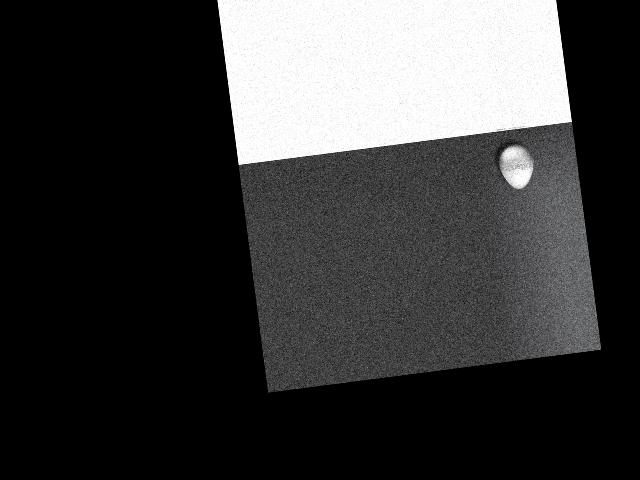egg: (496, 142, 536, 191)
